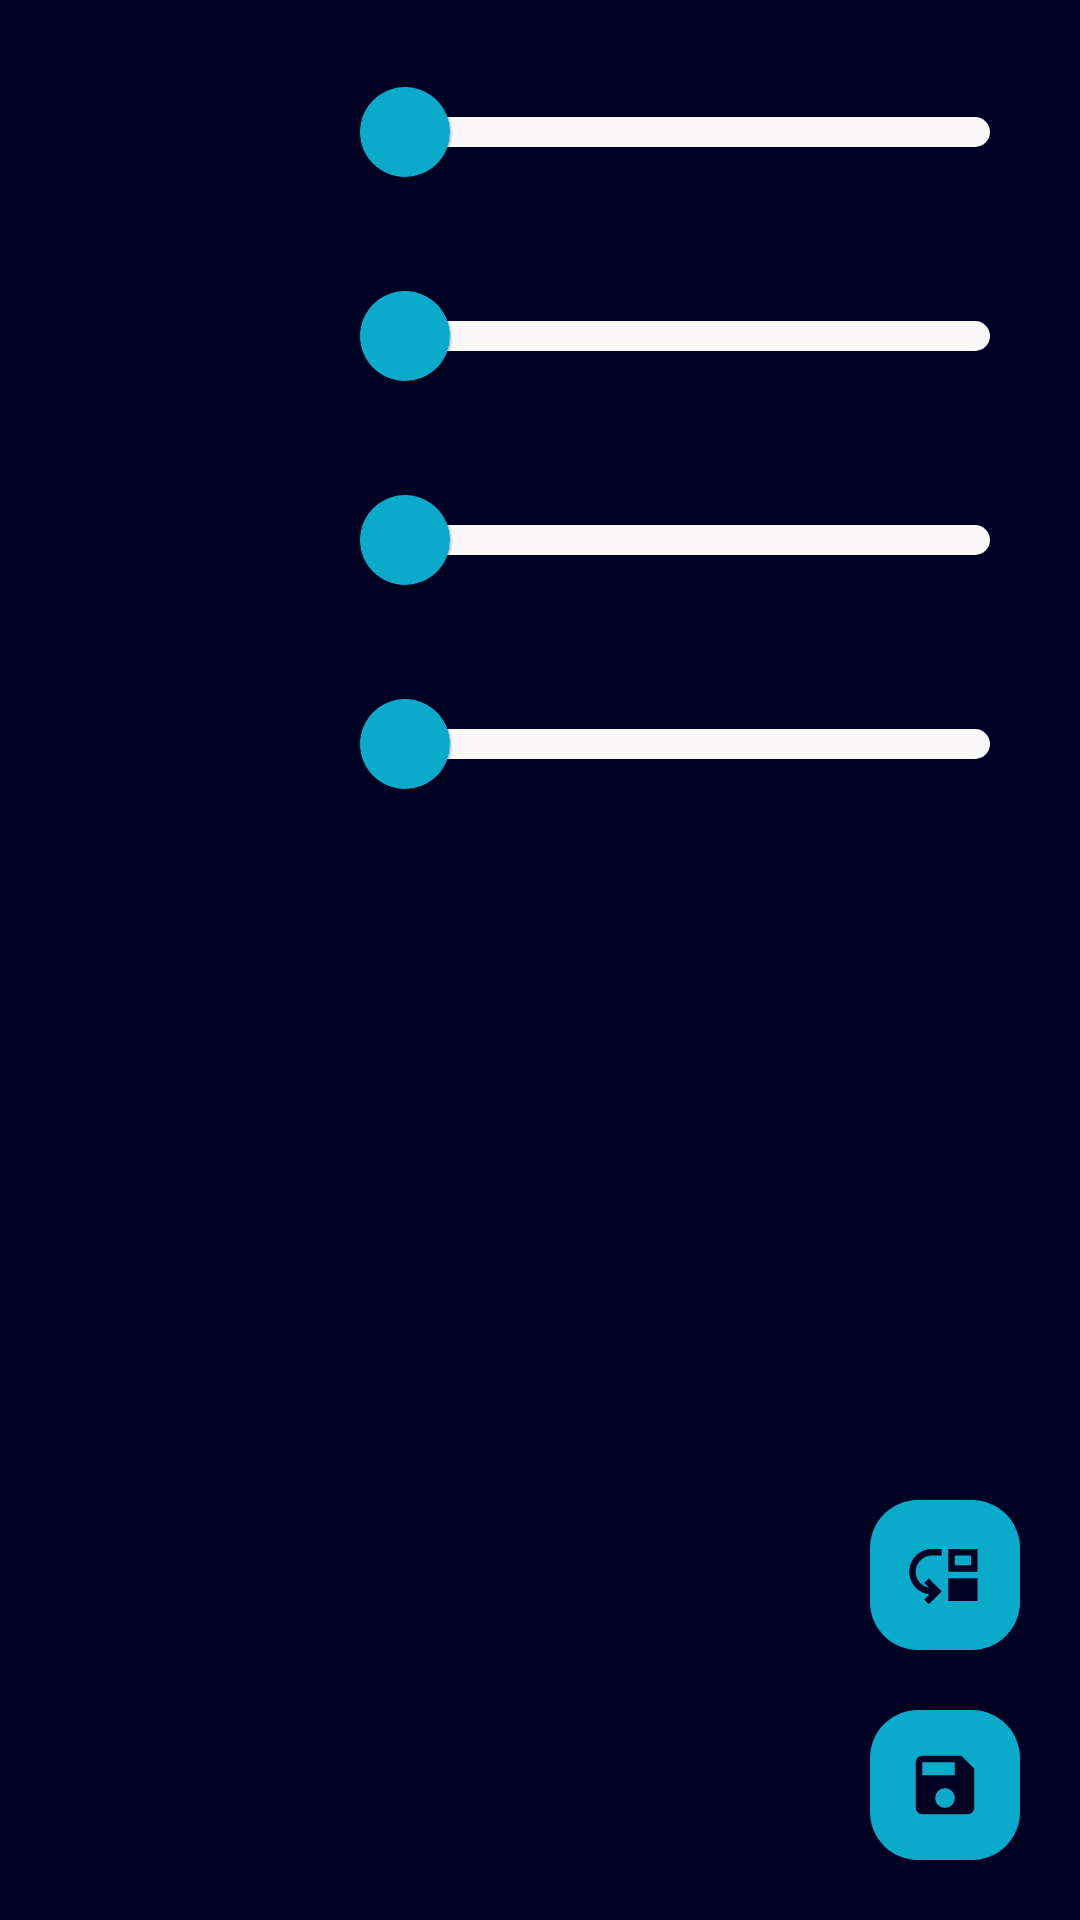

Icons on this 1080 x 1920 Android screen, each with the point to tap as (x=x, y=y):
Save: (x=945, y=1785)
